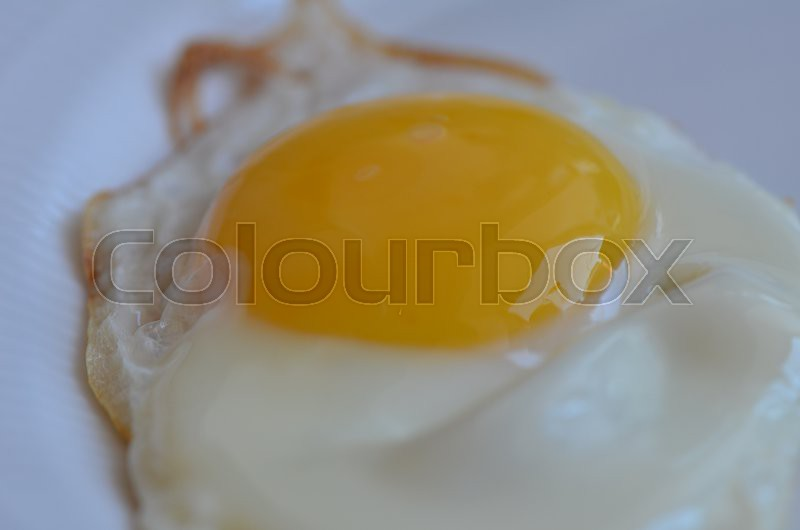fried egg: (82, 27, 796, 530)
